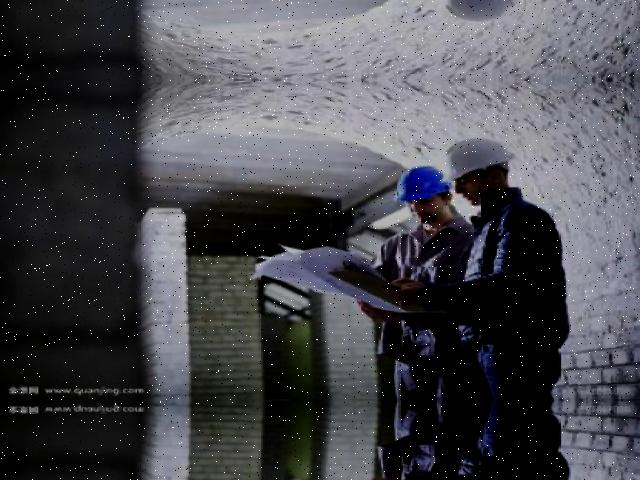Helmet: (440, 133, 518, 188), (390, 161, 448, 207)
